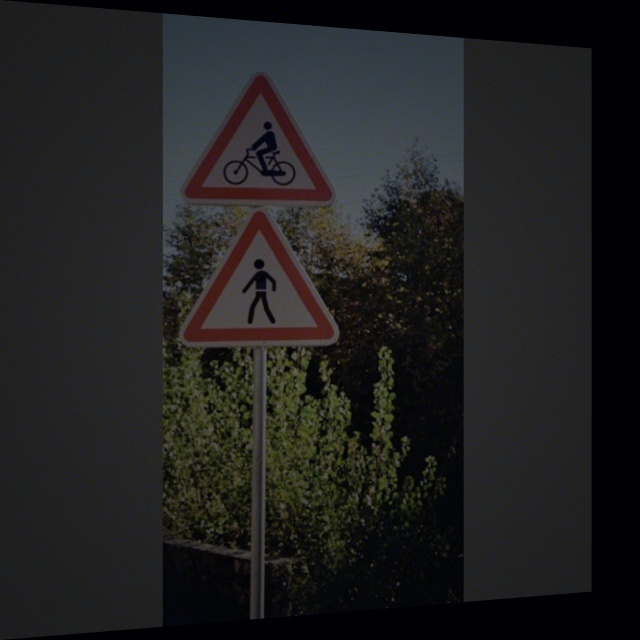Cycle_Crossing: (187, 64, 328, 208)
